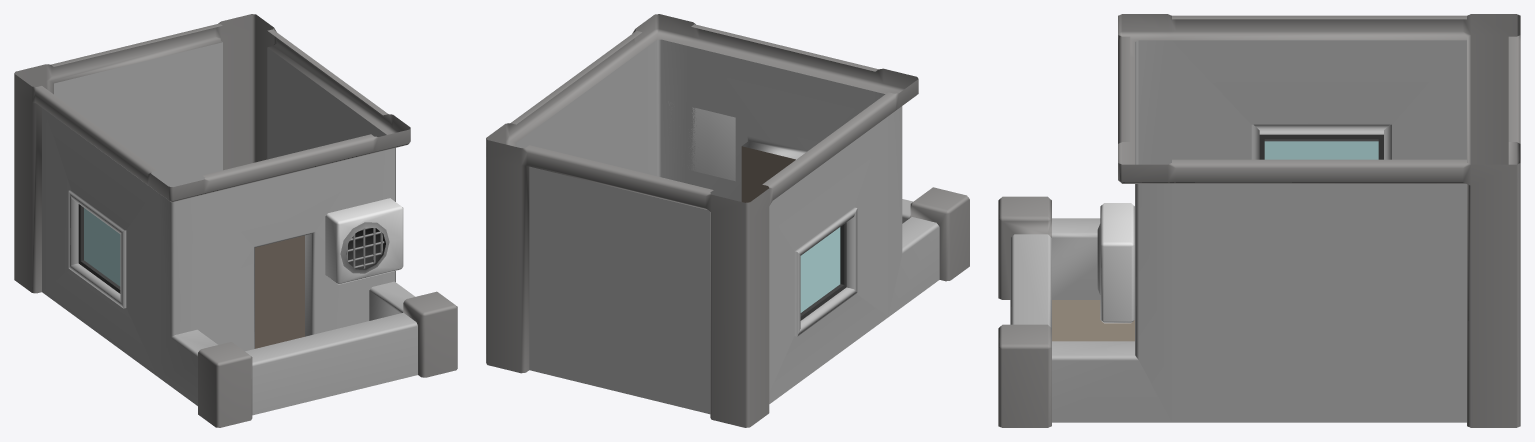
Rendered from Balcony1.fbx.
The picture shows the model from 3 angles, left to right: view 1: azimuth 30°, elevation 25°; view 2: azimuth 150°, elevation 25°; view 3: azimuth 270°, elevation 25°; orthographic projection. The views are drawn at different scales.
Parts seen in each view (by area): view 1: Balcony1, ACUnit13; view 2: Balcony1, ACUnit13; view 3: Balcony1, ACUnit13.
Boxes of the visible parts, <box> form: Balcony1: <box>14,14,457,427</box>; ACUnit13: <box>325,198,403,284</box>; Balcony1: <box>486,14,969,427</box>; ACUnit13: <box>668,101,735,181</box>; Balcony1: <box>998,14,1520,427</box>; ACUnit13: <box>1097,203,1134,323</box>.
Size of the model in its own units: 429 by 350 by 629.
